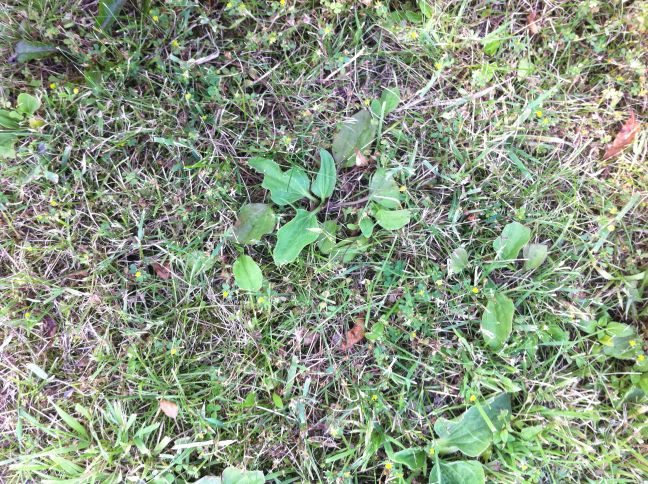weed1: (237, 145, 427, 276), (386, 384, 519, 484), (473, 214, 548, 357)
